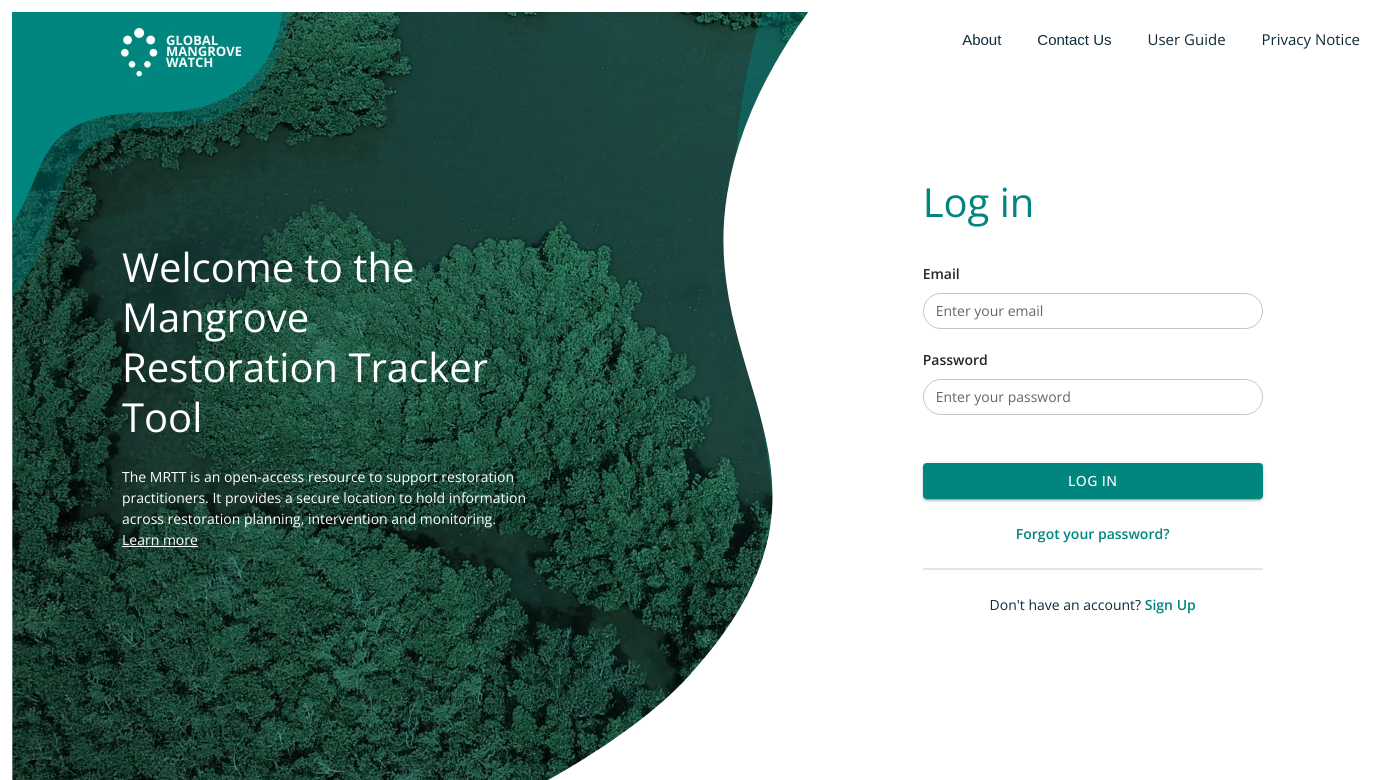
LoginForm › asks for both fields before signing in
Click the button "Log in".
click(1093, 481)  # box [923,463,1263,499]
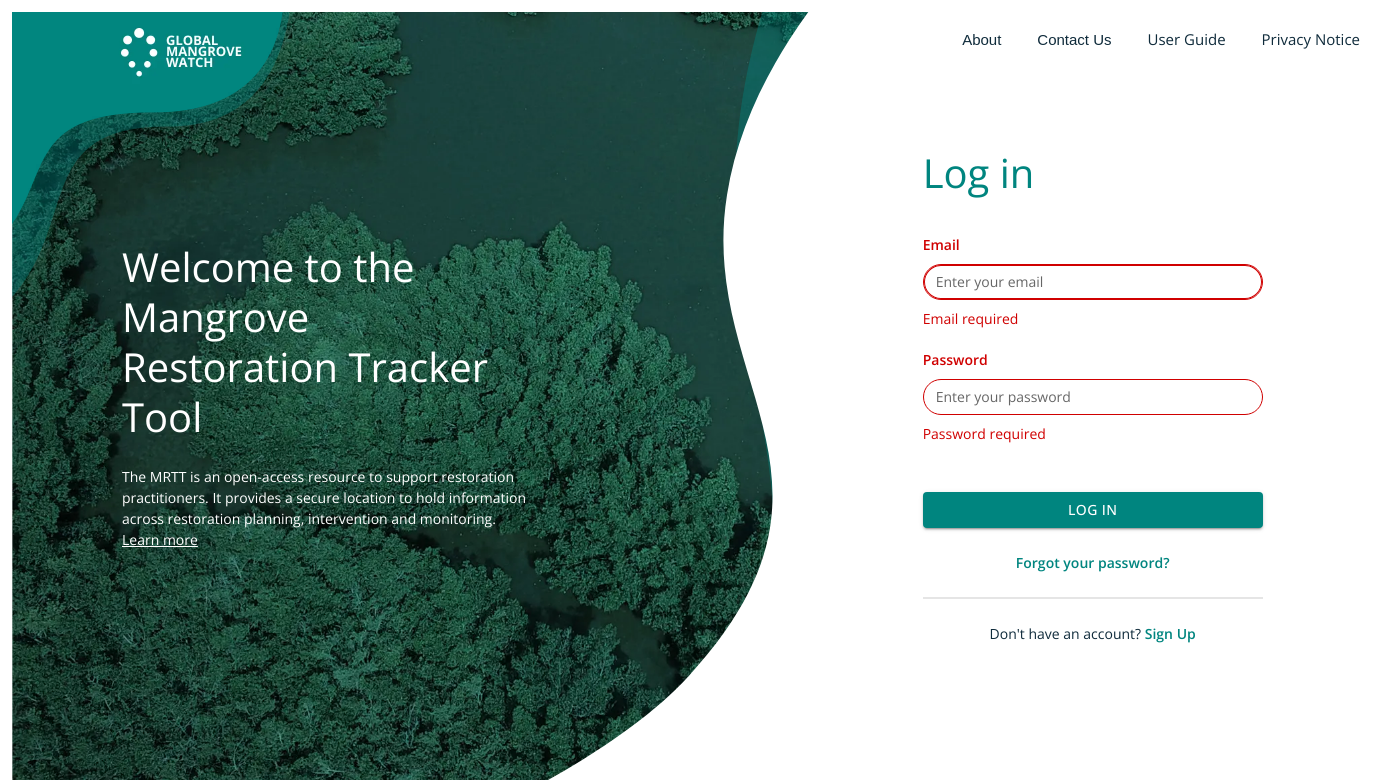
Now the text "Email required" is shown, box [923,309,1018,328]
Now the text "Password required" is shown, box [923,424,1046,443]
